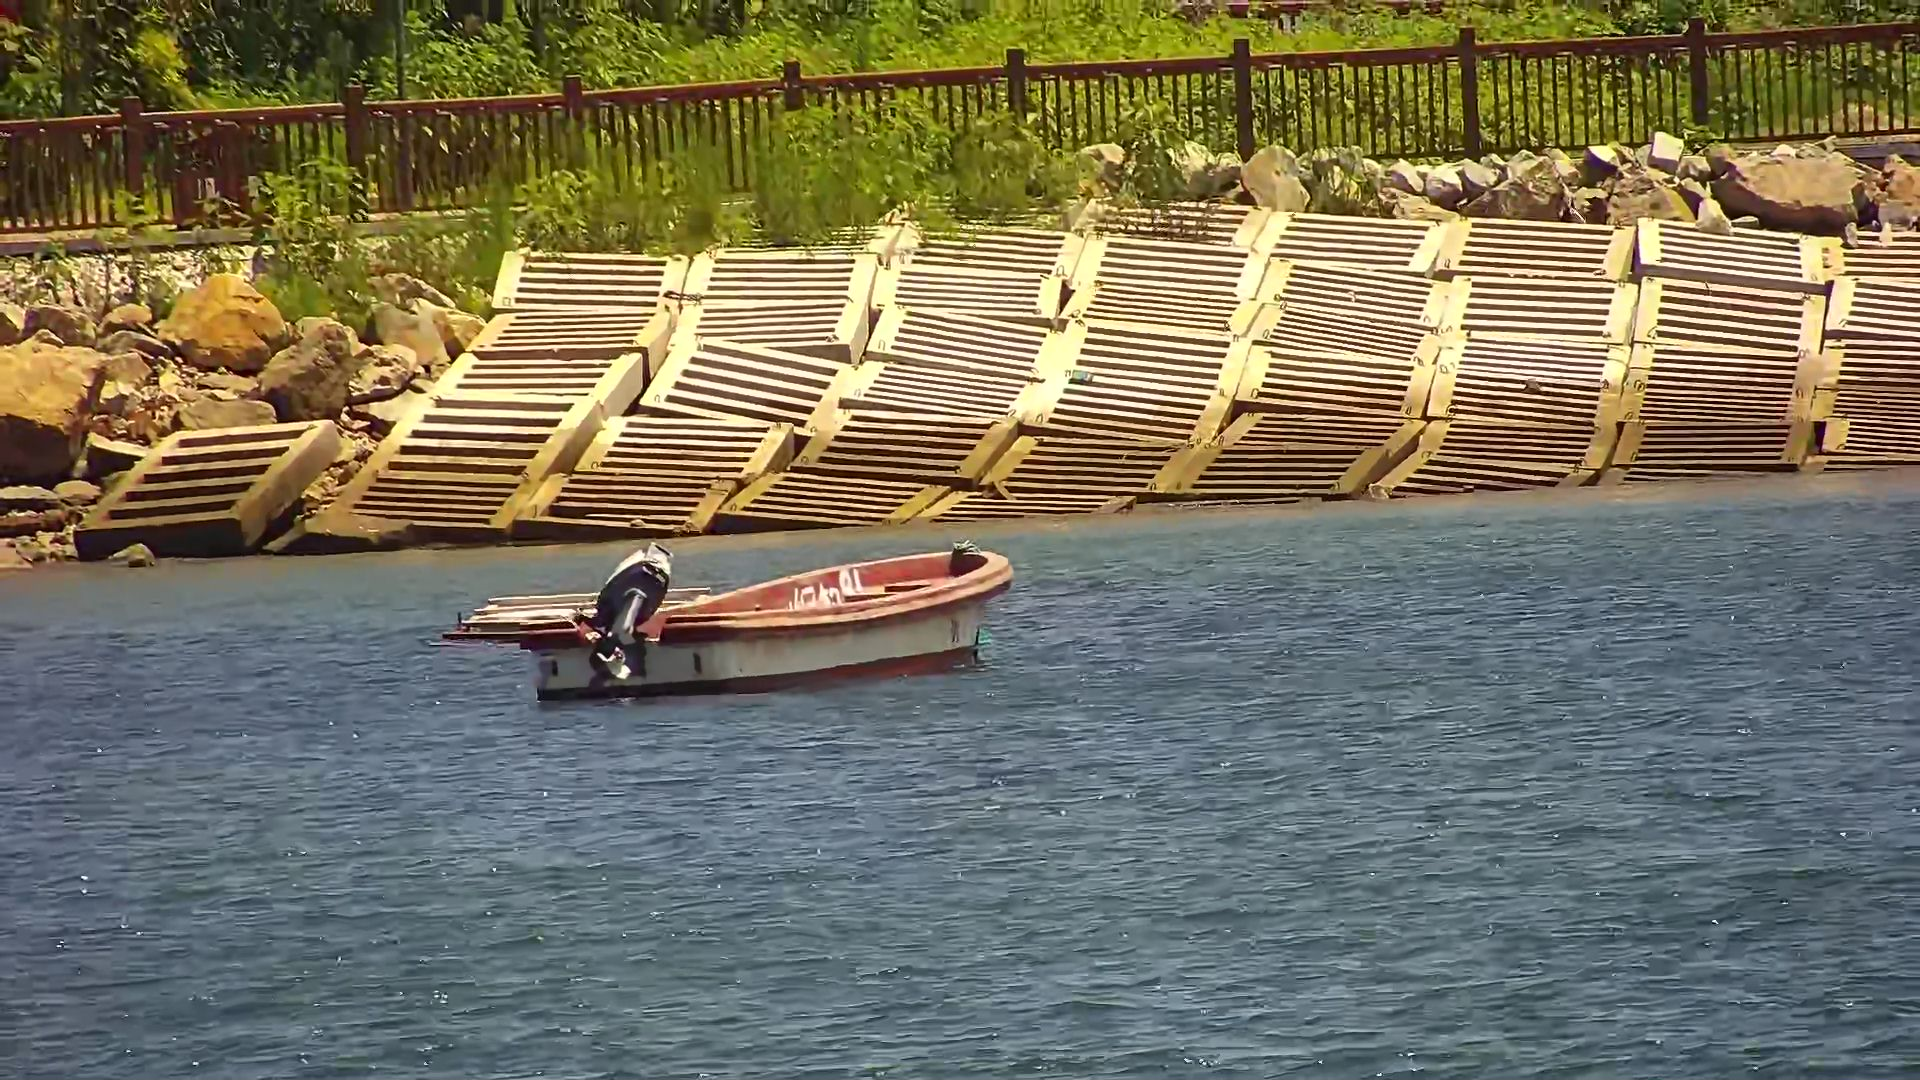boat: (407, 533, 1025, 713)
